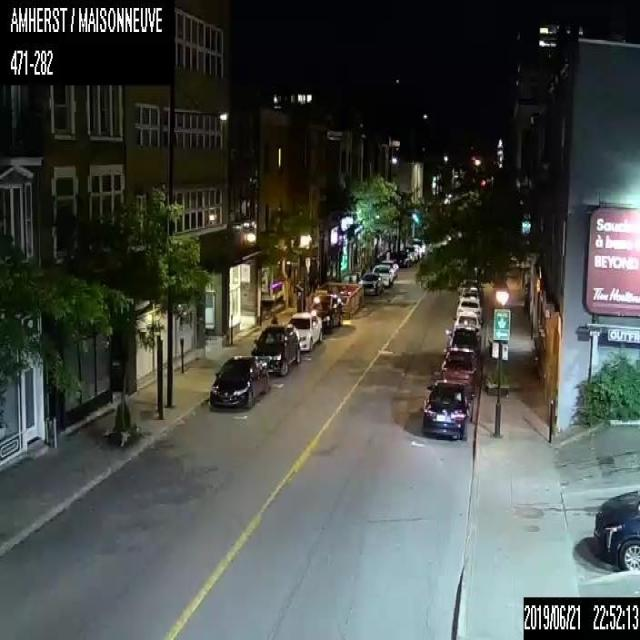vehicle: (589, 486, 639, 574), (209, 354, 268, 407), (421, 379, 469, 439), (250, 323, 300, 376), (441, 345, 481, 394), (287, 312, 321, 349), (309, 293, 342, 331), (444, 326, 480, 352), (454, 310, 481, 337), (455, 296, 482, 321), (358, 271, 383, 295), (372, 264, 393, 286), (458, 286, 480, 304), (380, 258, 398, 276), (396, 248, 412, 266)
